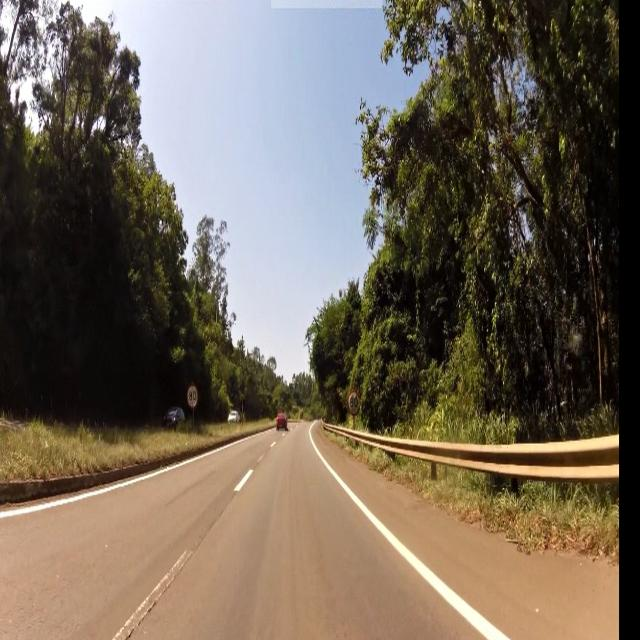R-19: (350, 390, 360, 414), (188, 385, 198, 408)
